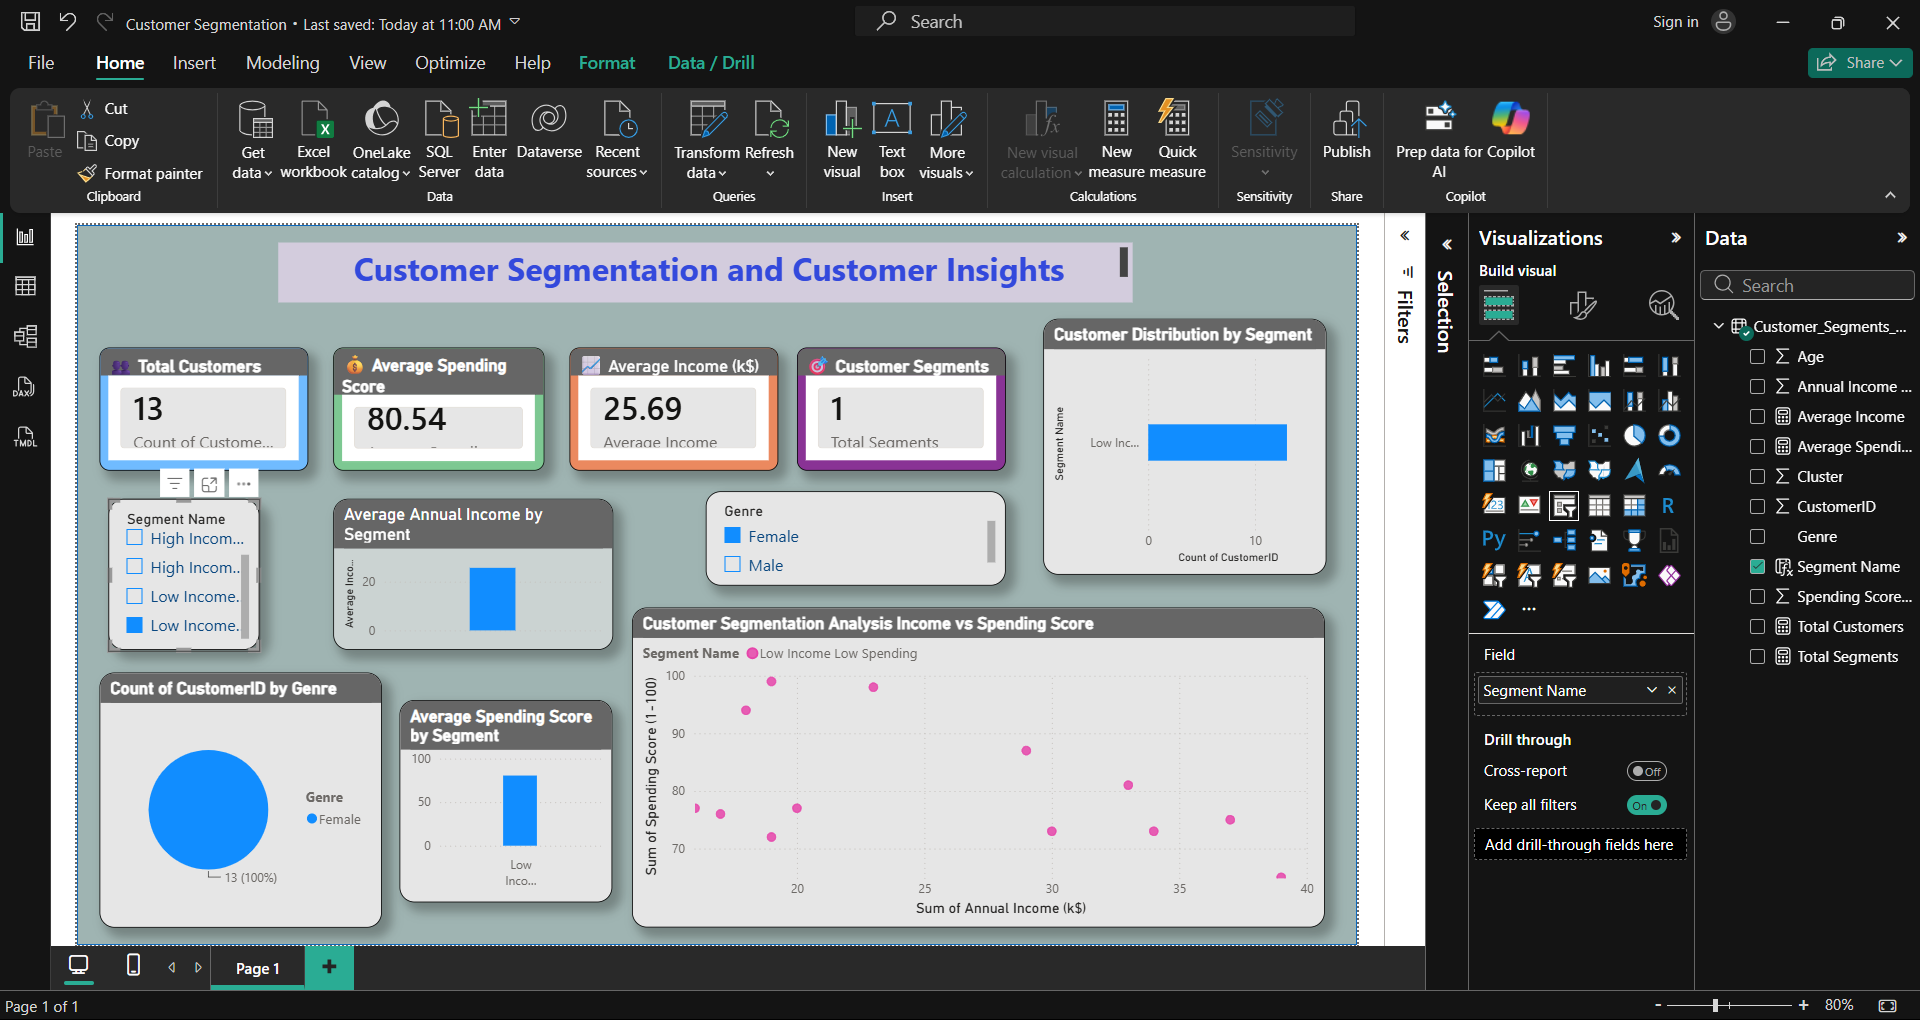

What the dashboard file says about the page in this screenshot:
{"tool":"powerbi","page":{"name":"Page 1","canvas":[1280,720],"ordinal":0},"visuals":[{"type":"shape","box":[0,0,1280,720],"z":0},{"type":"clusteredBarChart","title":"Customer Distribution by Segment","fields":{"Category":["Customer_Segments_Output.Segment Name"],"Y":["CountNonNull(Customer_Segments_Output.CustomerID)"]},"box":[965.7,94.3,282.9,255.7],"z":1000},{"type":"cardVisual","title":"👥 Total Customers","fields":{"Data":["CountNonNull(Customer_Segments_Output.CustomerID)"]},"box":[22.9,122.9,208.6,122.9],"z":2000},{"type":"cardVisual","title":"📈 Average Income (k$)","fields":{"Data":["Customer_Segments_Output.Average Income"]},"box":[492.9,122.9,208.6,122.9],"z":3000},{"type":"cardVisual","title":"💰 Average Spending Score","fields":{"Data":["Customer_Segments_Output.Average Spending"]},"box":[255.7,122.9,211.4,122.9],"z":4000},{"type":"pieChart","fields":{"Category":["Customer_Segments_Output.Genre"],"Y":["CountNonNull(Customer_Segments_Output.CustomerID)"]},"box":[22.5,447.5,282.5,255],"z":5000},{"type":"clusteredColumnChart","title":"Average Annual Income by Segment","fields":{"Category":["Customer_Segments_Output.Segment Name"],"Y":["Customer_Segments_Output.Average Income"]},"box":[255.7,274.3,280,151.4],"z":6000},{"type":"clusteredColumnChart","title":"Average Spending Score by Segment","fields":{"Category":["Customer_Segments_Output.Segment Name"],"Y":["Customer_Segments_Output.Average Spending"]},"box":[322.5,475,212.5,202.5],"z":7000},{"type":"scatterChart","title":"Customer Segmentation Analysis Income vs Spending Score","fields":{"X":["Sum(Customer_Segments_Output.Annual Income (k$))"],"Y":["Sum(Customer_Segments_Output.Spending Score (1-100))"],"Series":["Customer_Segments_Output.Segment Name"],"Category":["Customer_Segments_Output.CustomerID"]},"box":[555,382.5,692.5,320],"z":8000},{"type":"textbox","box":[201.4,17.1,854.3,60],"z":9000},{"type":"slicer","title":"Segment Name","fields":{"Values":["Customer_Segments_Output.Segment Name"]},"box":[31.4,274.3,151.4,151.4],"z":10000},{"type":"cardVisual","title":"🎯 Customer Segments","fields":{"Data":["Customer_Segments_Output.Total Segments"]},"box":[720,122.9,208.6,122.9],"z":11000},{"type":"slicer","fields":{"Values":["Customer_Segments_Output.Genre"]},"box":[628.6,265.7,300,94.3],"z":11001}]}

Visuals, with their boxes on the page's 1280x720 design canvas (x1, y1, x2, y2). These are canvas units, not pixel positions in the 1920x1020 screenshot, which may show the page scaled, cropped or inside an application window:
shape: left=0, top=0, right=1280, bottom=720
"Customer Distribution by Segment" clusteredBarChart: left=966, top=94, right=1249, bottom=350
"👥 Total Customers" cardVisual: left=23, top=123, right=232, bottom=246
"📈 Average Income (k$)" cardVisual: left=493, top=123, right=702, bottom=246
"💰 Average Spending Score" cardVisual: left=256, top=123, right=467, bottom=246
pieChart - Customer_Segments_Output.Genre x CountNonNull(Customer_Segments_Output.CustomerID): left=22, top=448, right=305, bottom=702
"Average Annual Income by Segment" clusteredColumnChart: left=256, top=274, right=536, bottom=426
"Average Spending Score by Segment" clusteredColumnChart: left=322, top=475, right=535, bottom=678
"Customer Segmentation Analysis Income vs Spending Score" scatterChart: left=555, top=382, right=1248, bottom=702
textbox: left=201, top=17, right=1056, bottom=77
"Segment Name" slicer: left=31, top=274, right=183, bottom=426
"🎯 Customer Segments" cardVisual: left=720, top=123, right=929, bottom=246
slicer - Customer_Segments_Output.Genre: left=629, top=266, right=929, bottom=360
